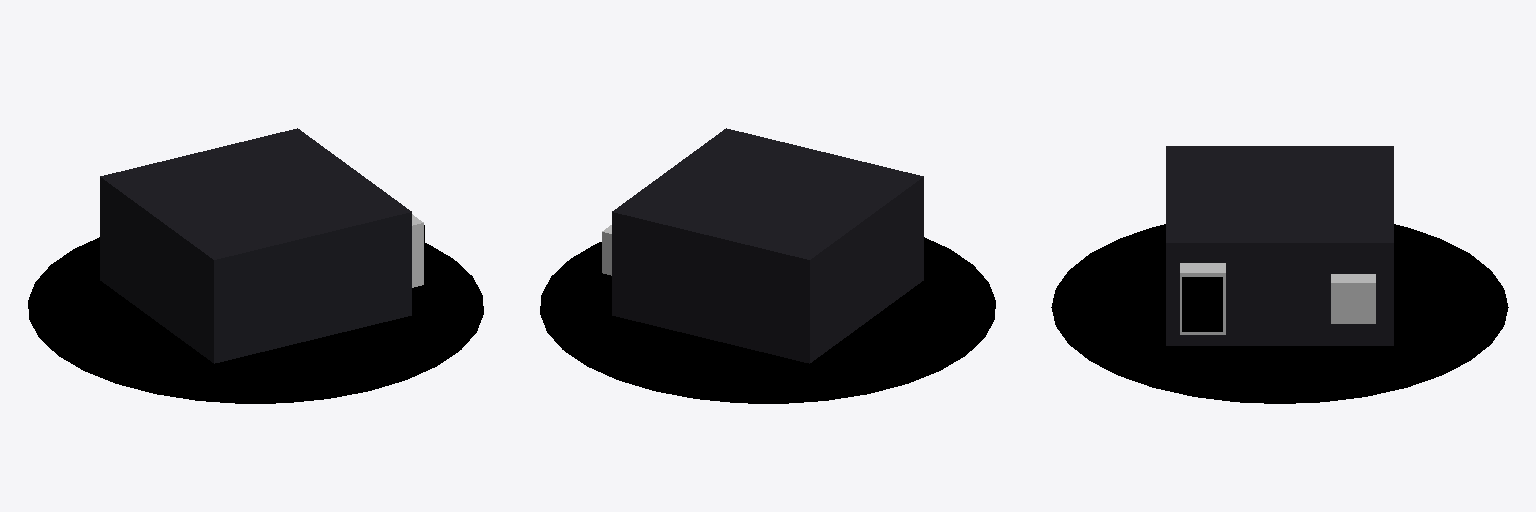
The model's file is Enemy.obj.
3 renders of one model, left to right at view 1: azimuth 30°, elevation 25°; view 2: azimuth 150°, elevation 25°; view 3: azimuth 270°, elevation 25°, orthographic.
Visible parts, largest first — view 1: Cube, Sphere, Cube.001; view 2: Cube, Sphere; view 3: Cube, Sphere, Cube.003, Cube.002, Cube.001.
Boxes of the visible parts, x1=… form: Cube: x1=100, y1=128, x2=411, y2=363; Sphere: x1=28, y1=237, x2=483, y2=403; Cube.001: x1=412, y1=214, x2=423, y2=287; Cube: x1=612, y1=128, x2=923, y2=363; Sphere: x1=540, y1=237, x2=995, y2=403; Cube: x1=1166, y1=146, x2=1393, y2=345; Sphere: x1=1051, y1=224, x2=1508, y2=403; Cube.003: x1=1182, y1=277, x2=1222, y2=331; Cube.002: x1=1331, y1=274, x2=1375, y2=323; Cube.001: x1=1180, y1=263, x2=1225, y2=334.
Bounding box in the file's own units: 4 × 1.19 × 4.